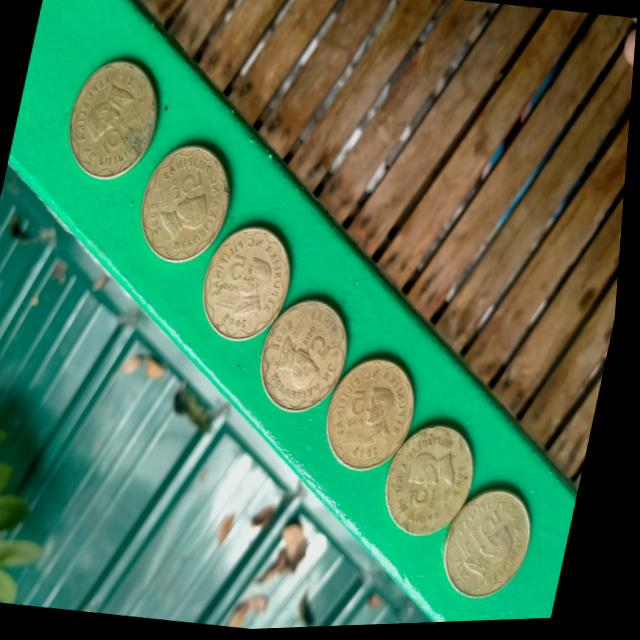5_Old_Front: (66, 66, 152, 167), (149, 153, 229, 253)
